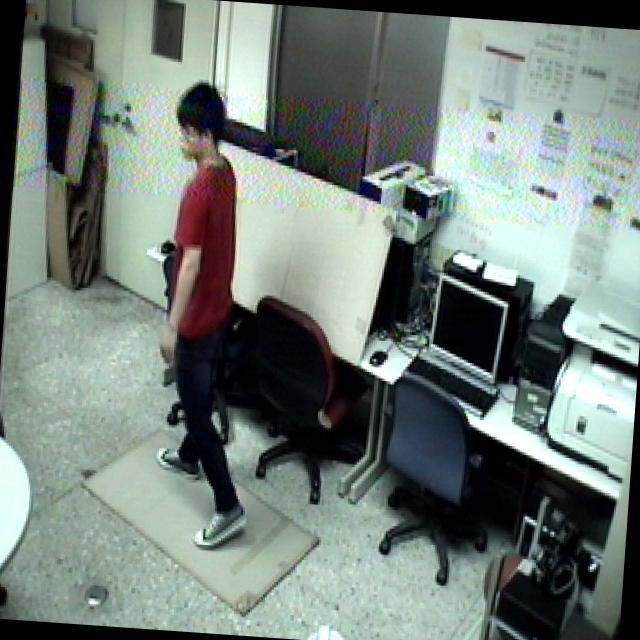stand: (134, 74, 284, 569)
